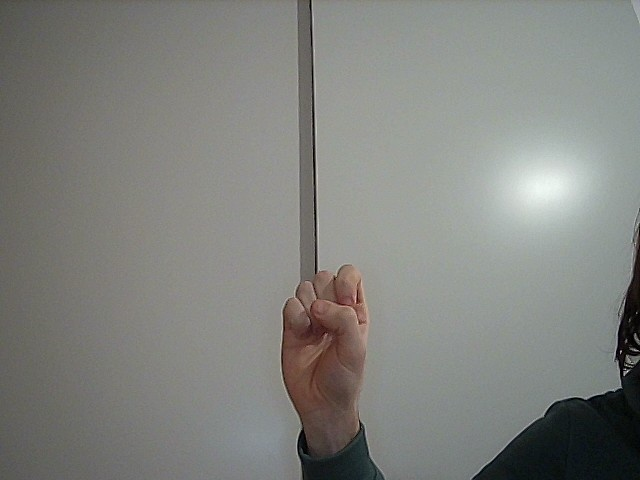s: (264, 257, 405, 412)
